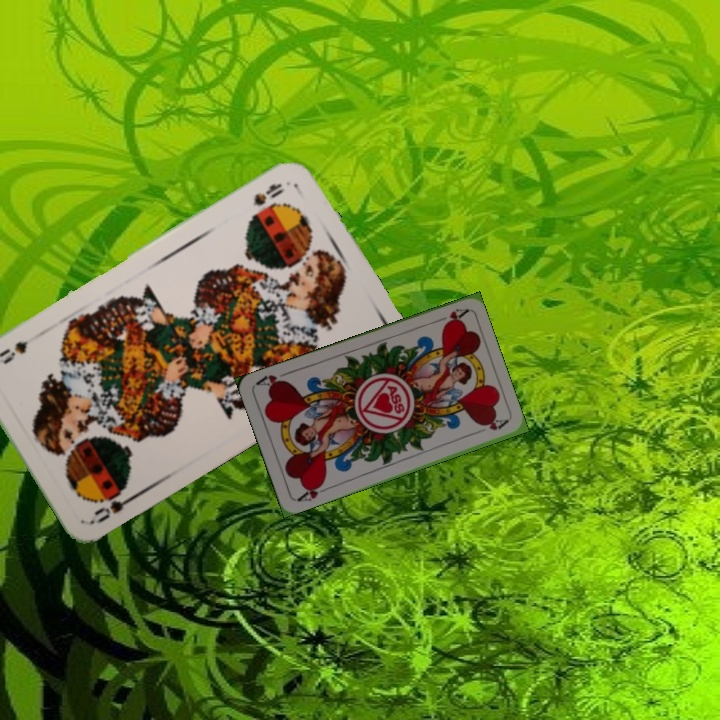HA: (293, 478, 332, 504), (430, 304, 470, 328)
SO: (88, 482, 142, 527), (248, 179, 288, 209)
